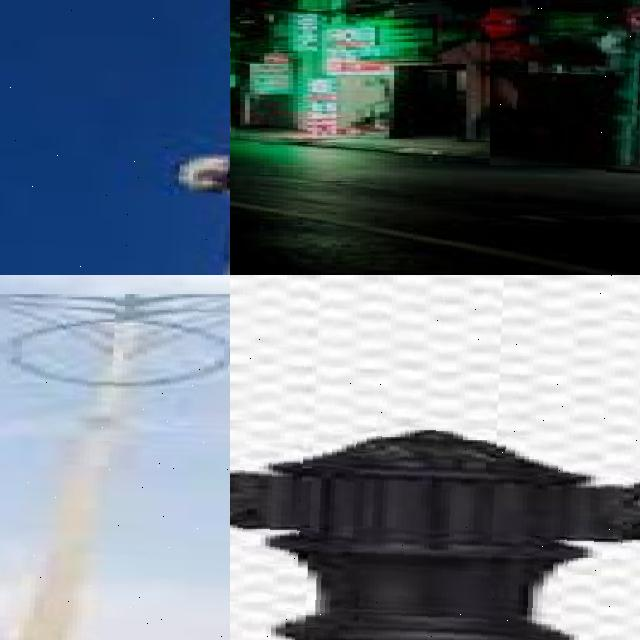street light: (230, 275, 640, 640), (0, 294, 230, 640), (0, 0, 230, 275), (490, 0, 640, 165)
